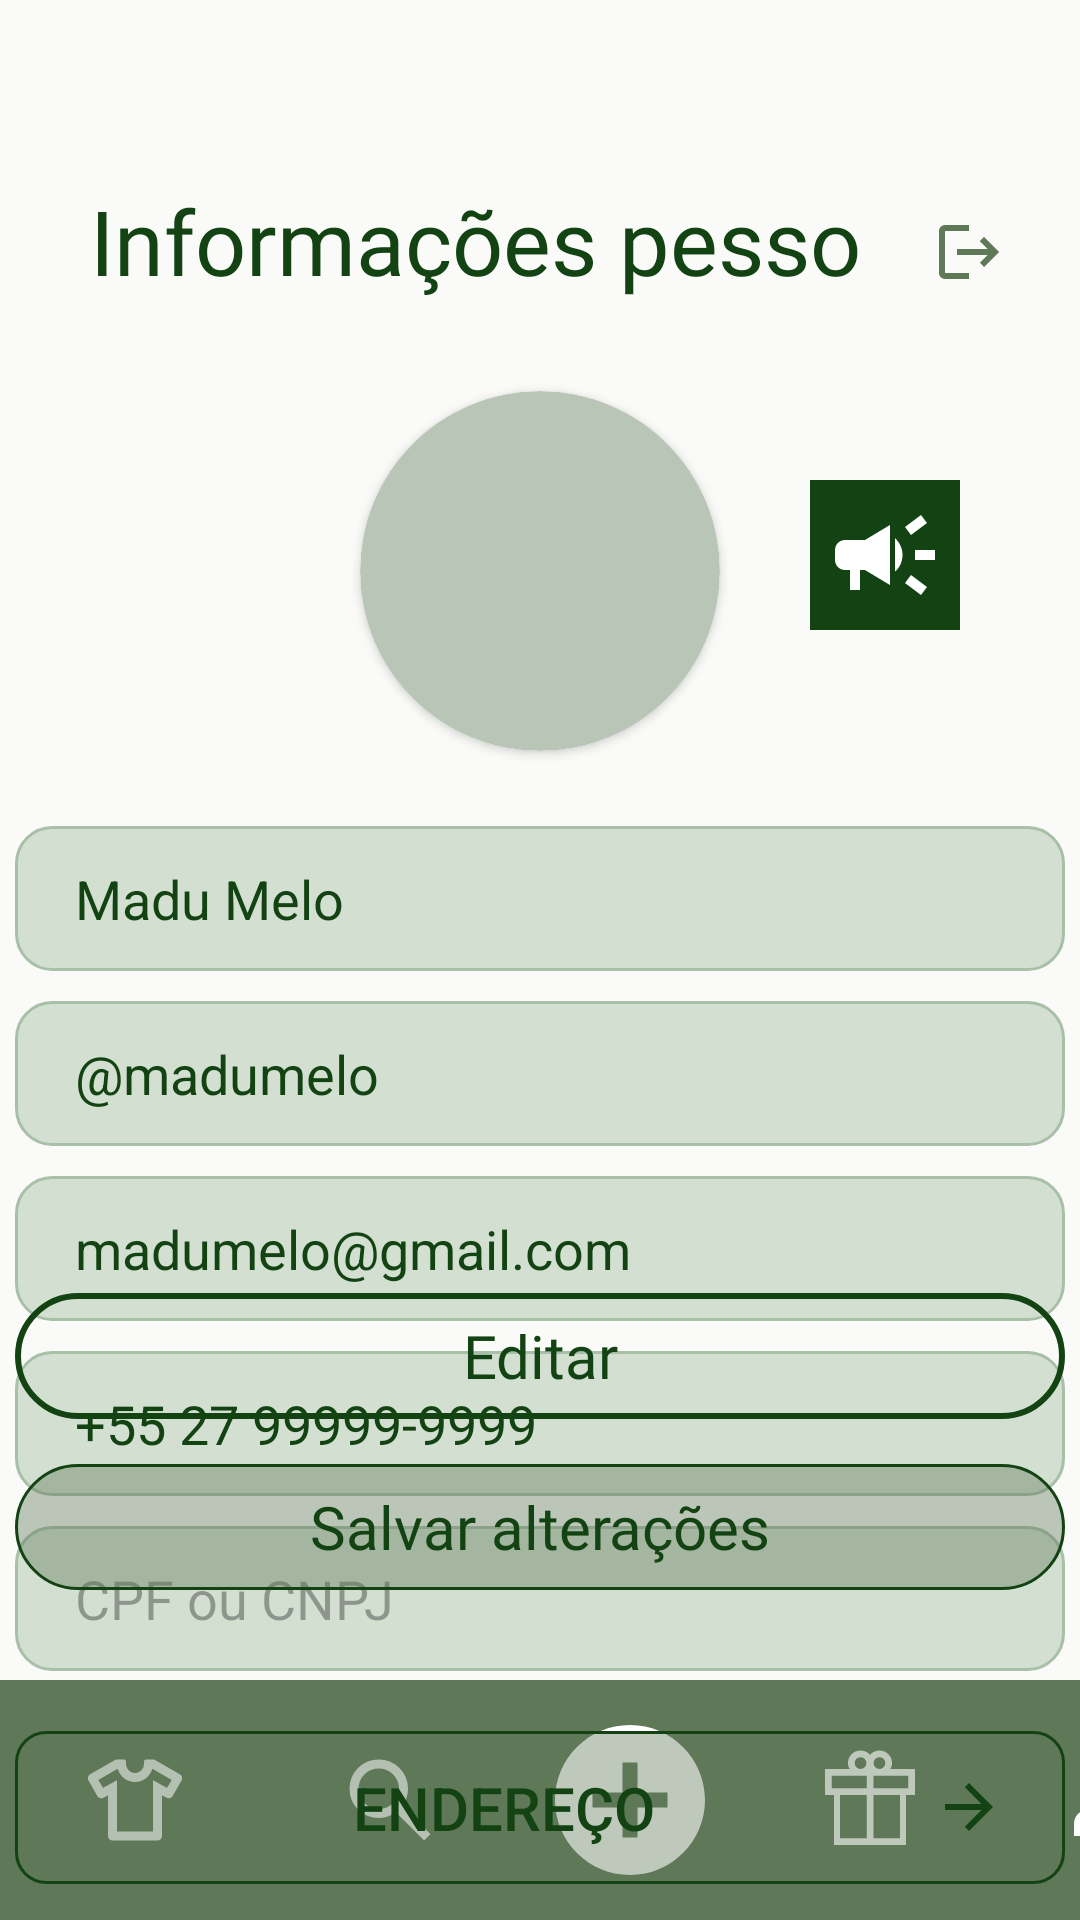

Point at icon controls on the screen. Image size 1080 × 1920, points as [x,y].
add circle: [630,1804]
campaign: [885,555]
